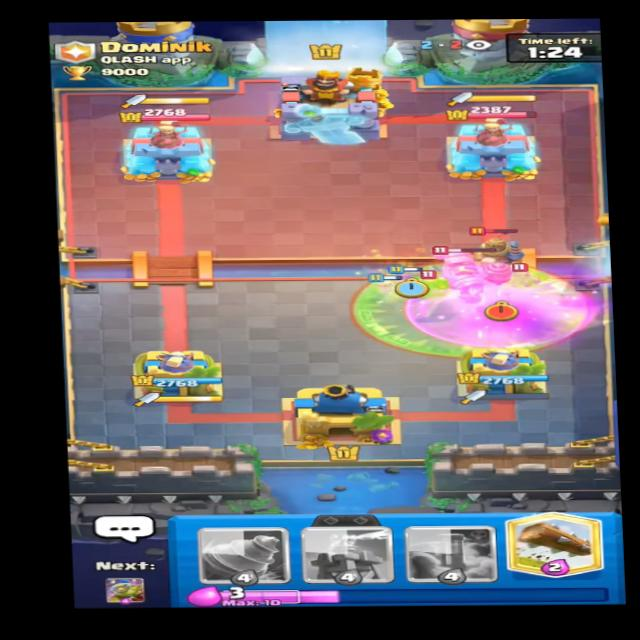goblin-curse: (346, 264, 590, 358)
goblin-machine: (421, 250, 512, 299)
prince: (466, 225, 536, 275)
rage: (403, 271, 598, 346)
